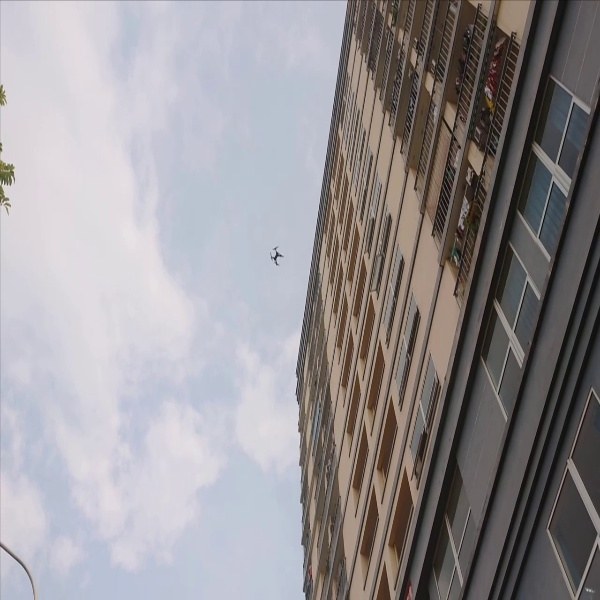drone: (263, 243, 287, 267)
